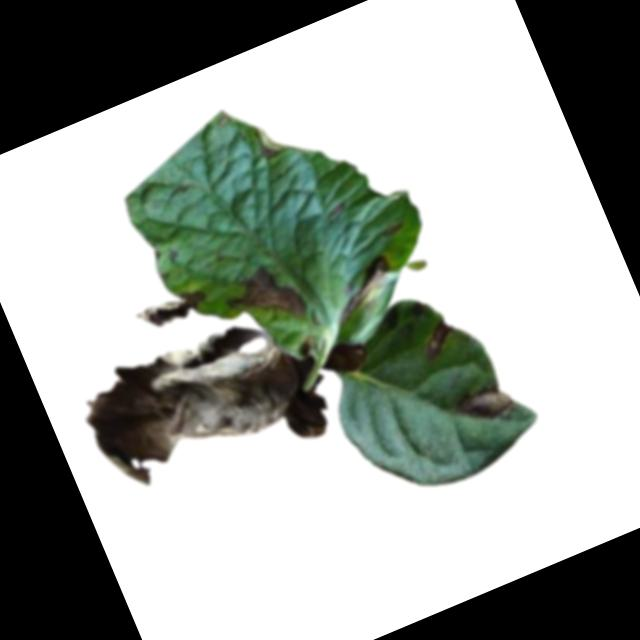Early_blight: (72, 304, 336, 517), (217, 255, 313, 343), (321, 252, 406, 328), (132, 280, 212, 336), (449, 379, 520, 438), (414, 312, 465, 363), (258, 136, 283, 161)
